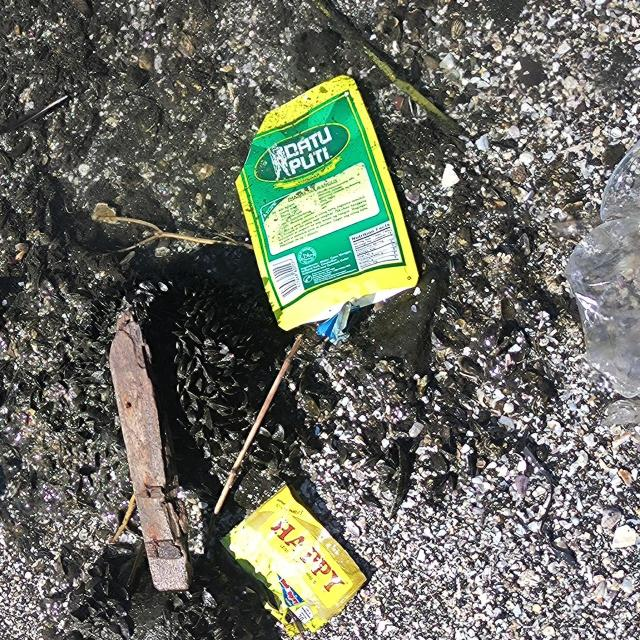plastic_waste: (242, 74, 426, 333), (215, 487, 366, 640), (567, 114, 640, 404)
wood_waste: (110, 312, 196, 590)
